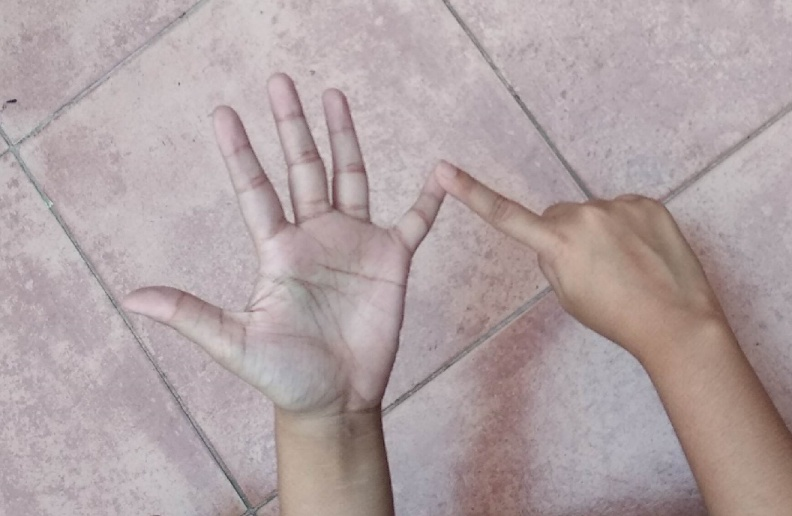i: (135, 63, 577, 398)
